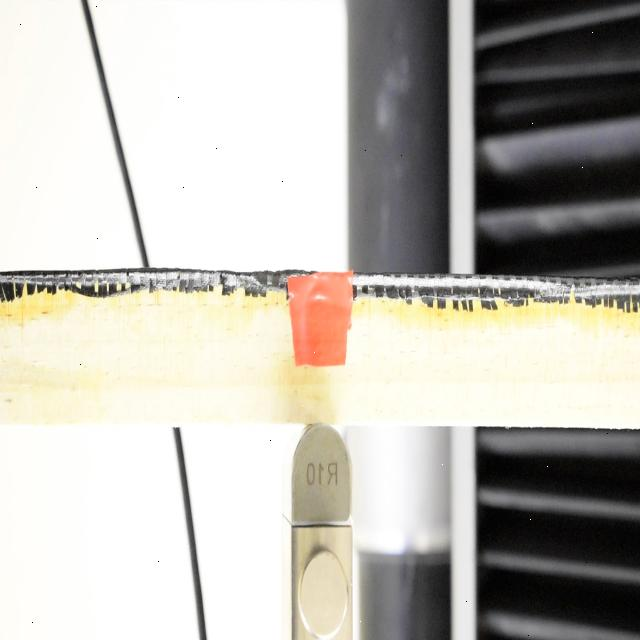wood: (2, 270, 638, 423)
